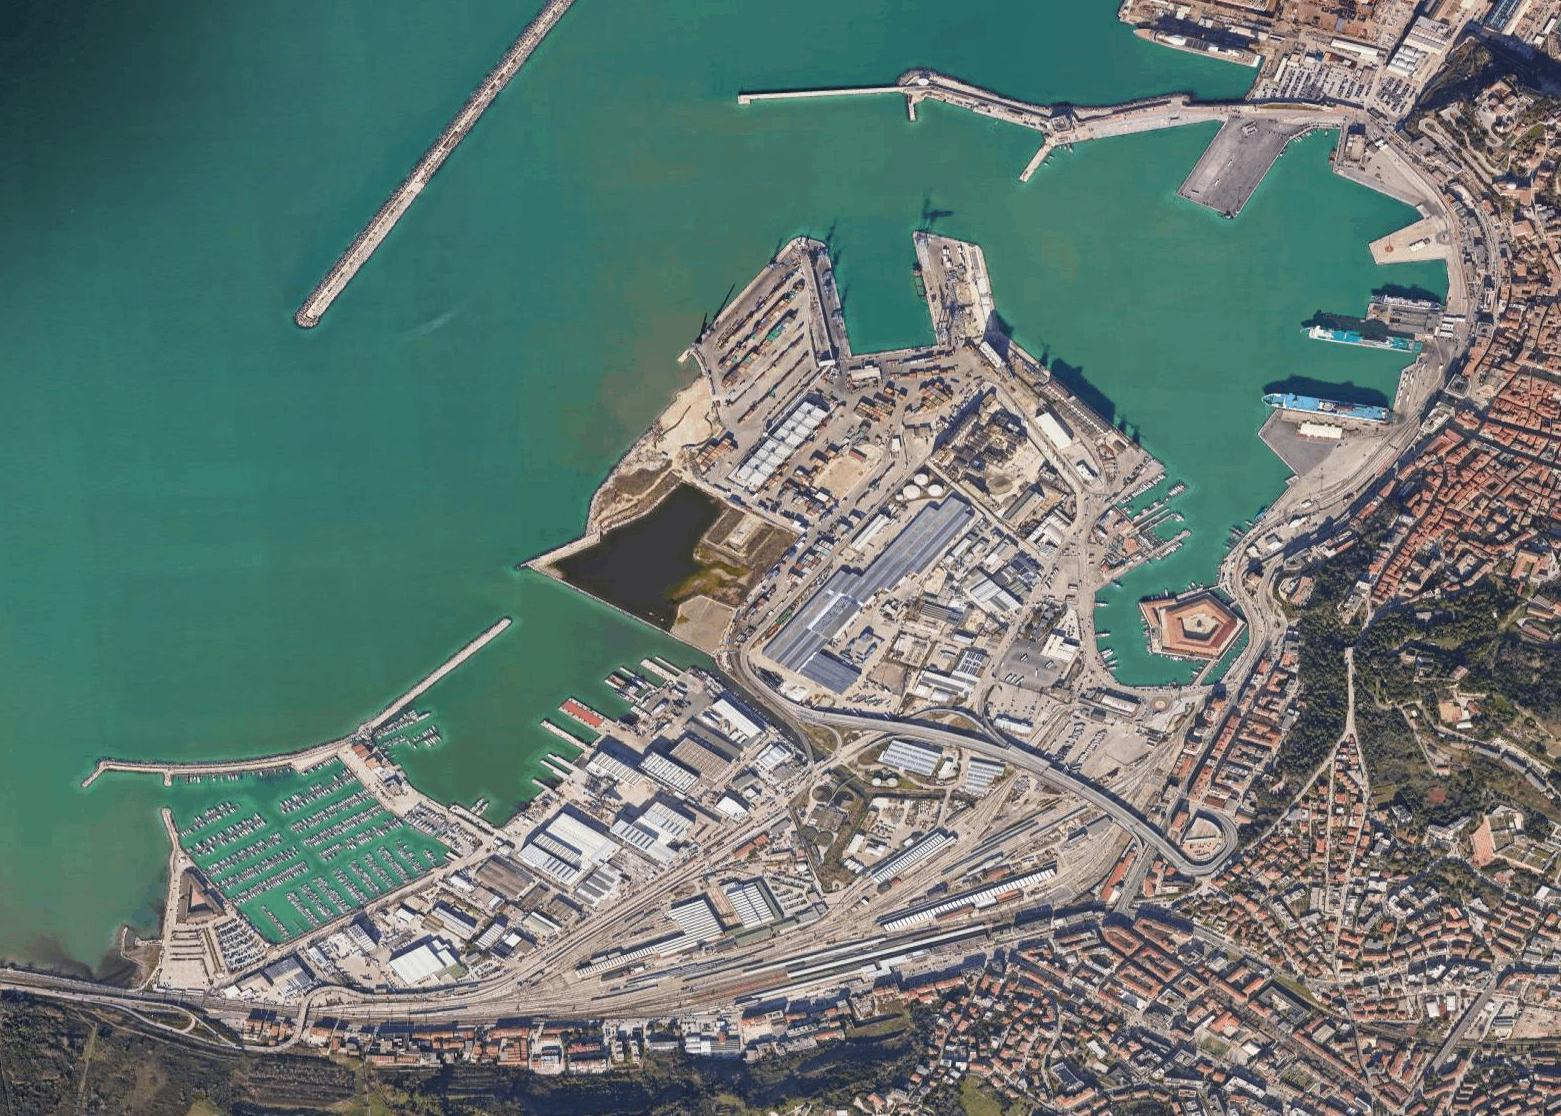harbor: (51, 14, 1474, 961)
train_station: (868, 864, 1073, 980)
